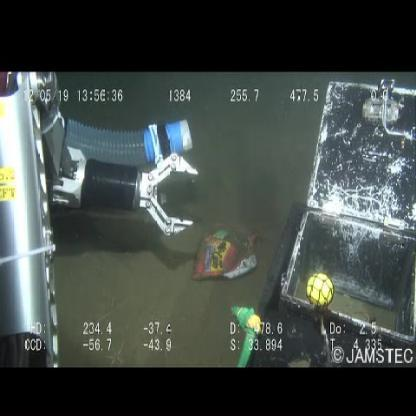Rov: (1, 74, 197, 356), (264, 78, 415, 361)
Rác: (192, 219, 262, 290)
